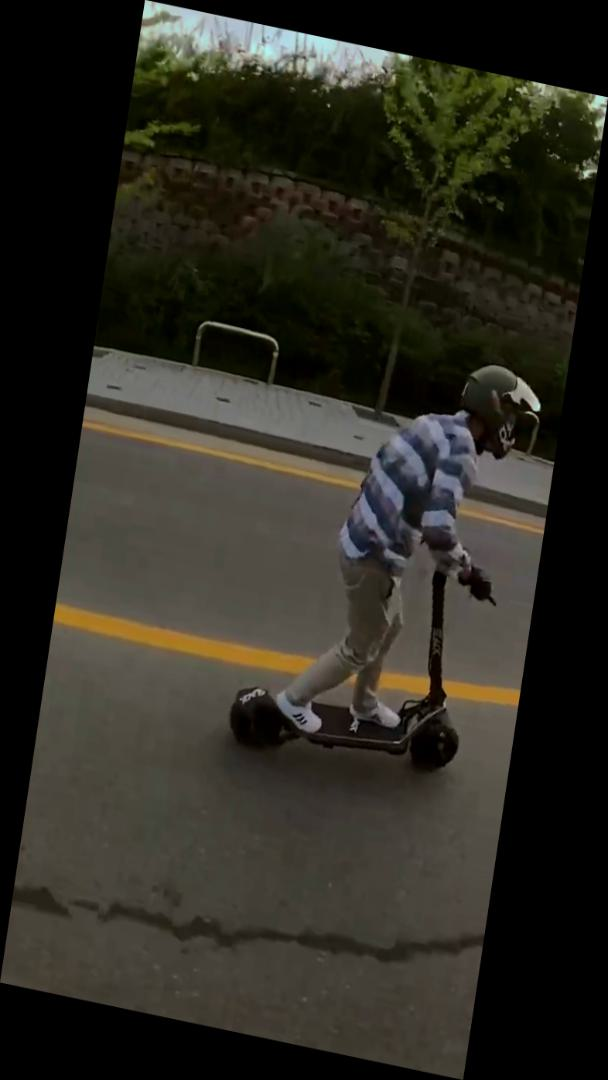helmet: (217, 316, 549, 803)
